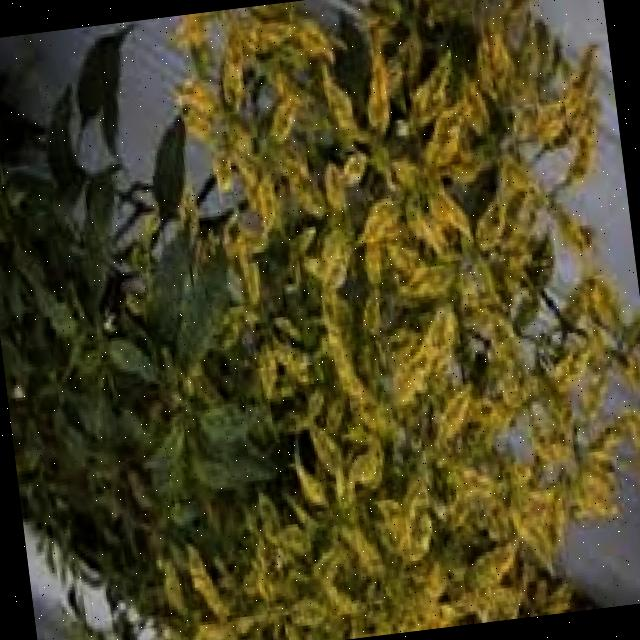yellow: (107, 0, 640, 640)
